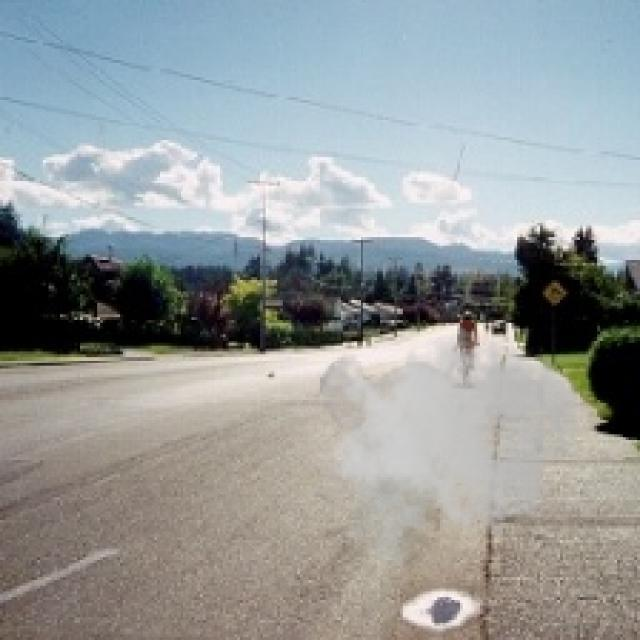Smoke: (314, 311, 583, 566)
